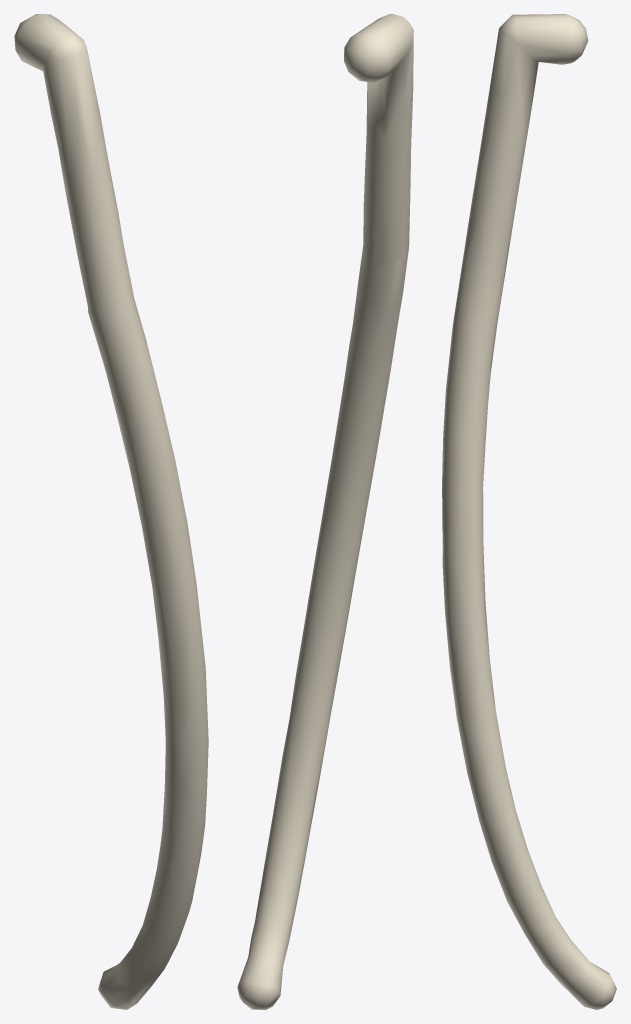
Rendered from rib_1_l.glb.
3 renders of one model, left to right at view 1: azimuth 30°, elevation 25°; view 2: azimuth 150°, elevation 25°; view 3: azimuth 270°, elevation 25°, orthographic. The views are drawn at different scales.
Parts seen in each view (by area): view 1: geometry_0; view 2: geometry_0; view 3: geometry_0.
Boxes of the visible parts, <box> form: geometry_0: <box>14,14,208,1009</box>; geometry_0: <box>237,14,413,1009</box>; geometry_0: <box>442,14,616,1009</box>.
Bounding box in the file's own units: 0.151 × 0.991 × 0.166.
